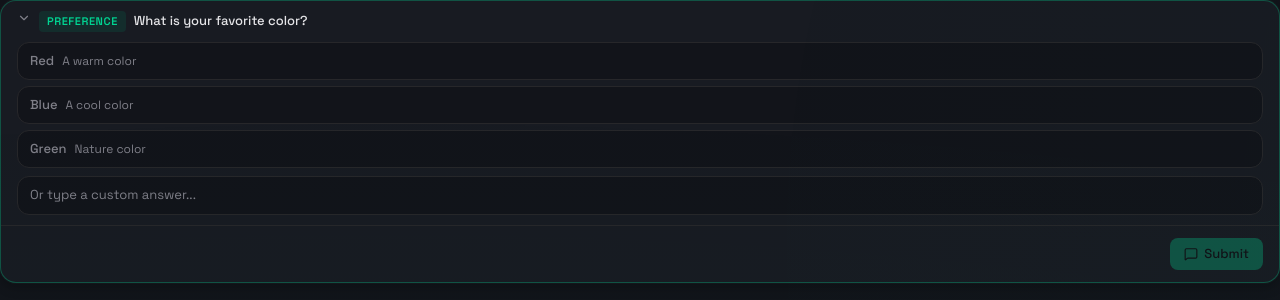
QuestionCard — collapsing › shows the chosen answer while folded, so nothing is hidden from the user
Type "Purple" into the field with placeholder "Or type a custom answer...". click: (640, 196)
box: [17, 176, 1263, 215]
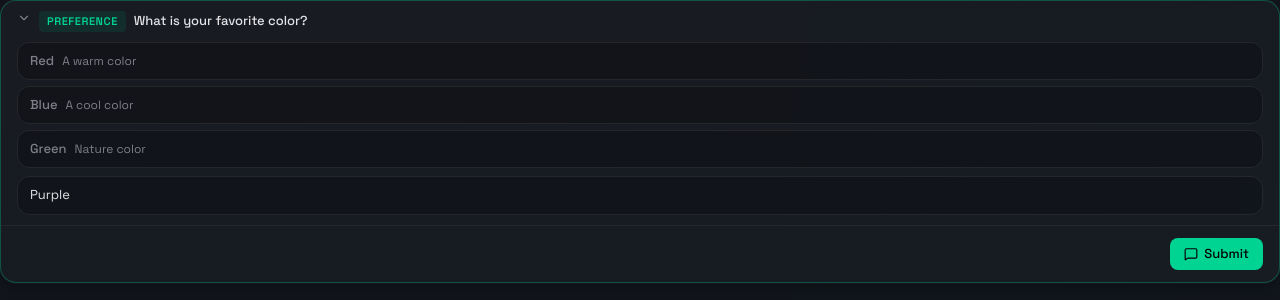
Click the button "Preference What is your favorite color?". click: (82, 22)
box: [17, 11, 1263, 32]
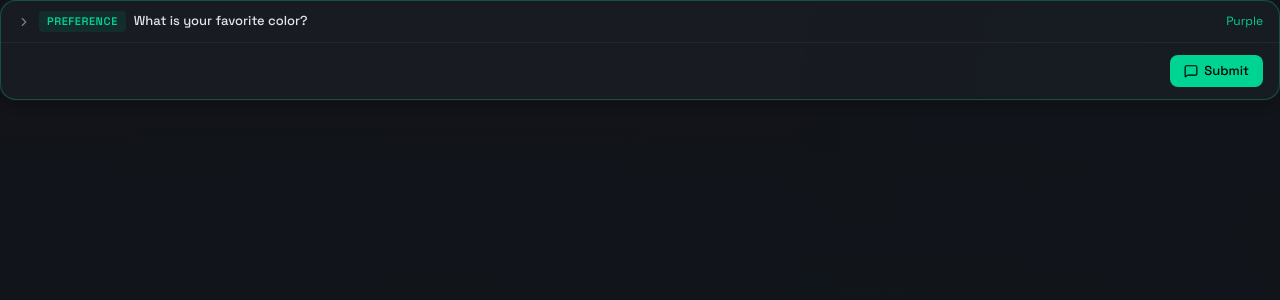
Result: the text "Purple" is shown at [1226, 13, 1263, 29]
